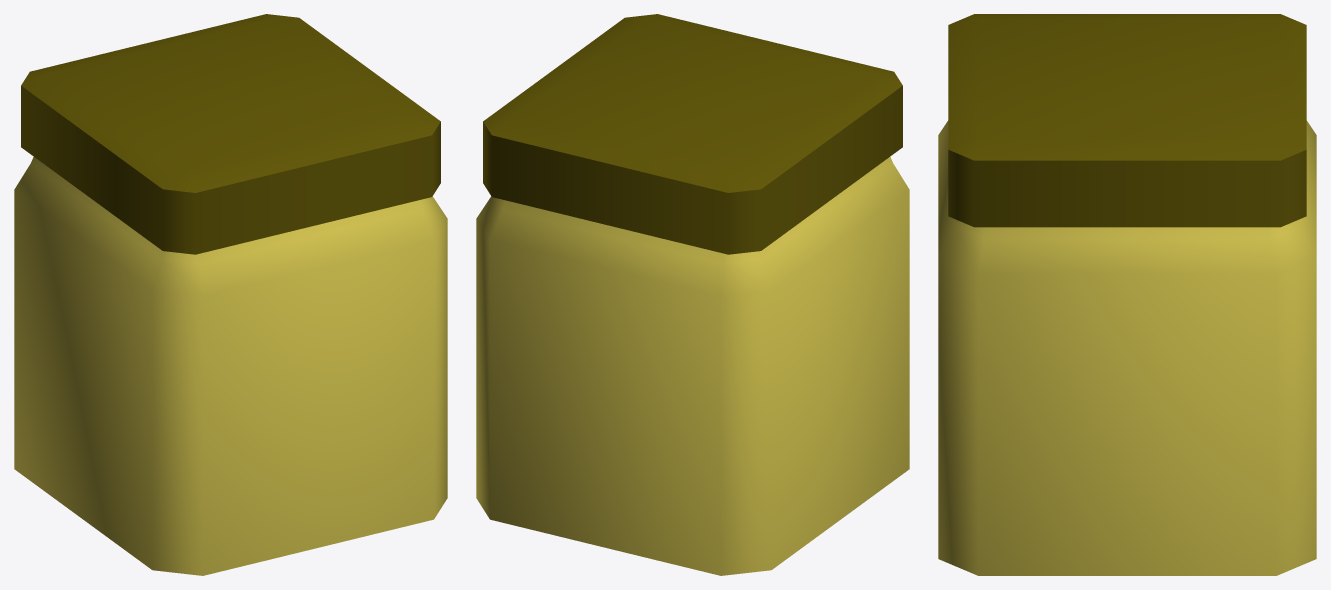
Rendered from Mustard.fbx.
The picture shows the model from 3 angles, left to right: view 1: azimuth 30°, elevation 25°; view 2: azimuth 150°, elevation 25°; view 3: azimuth 270°, elevation 25°; orthographic projection. The views are drawn at different scales.
Visible parts, largest first — view 1: Mustard; view 2: Mustard; view 3: Mustard.
Part boxes in pixels (bbox=[...]): Mustard: bbox=[14, 14, 447, 575]; Mustard: bbox=[476, 14, 909, 575]; Mustard: bbox=[938, 14, 1316, 575].
Bounding box in the file's own units: 10.22 × 13.25 × 10.5.
